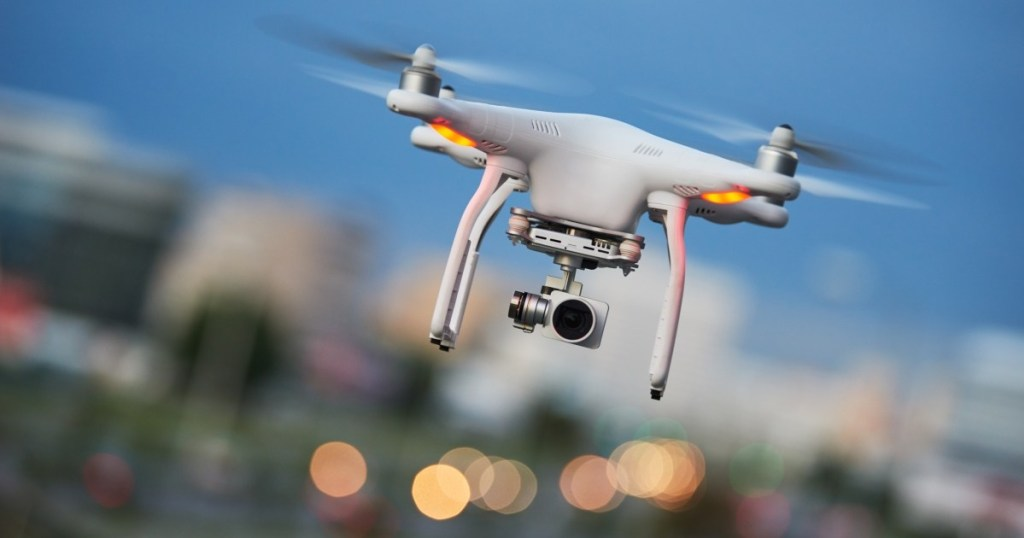drone: (245, 5, 968, 405)
